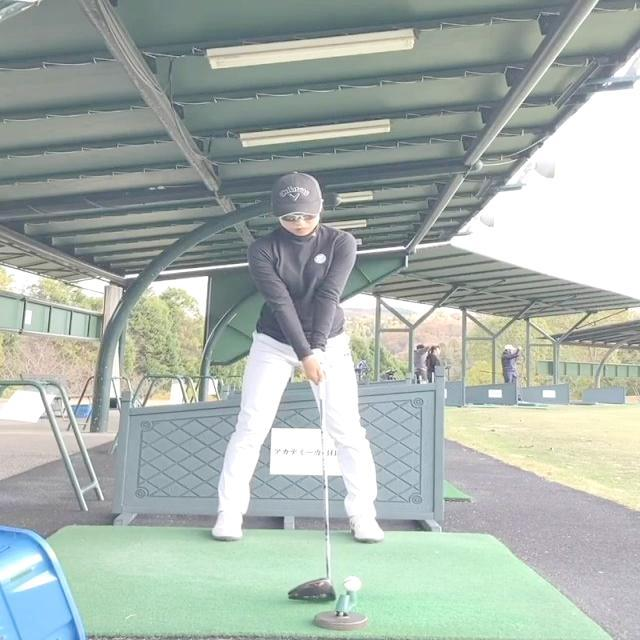golf ball: (343, 576, 361, 591)
golf club-handle: (289, 381, 336, 601)
golf club-head: (288, 578, 336, 601)
